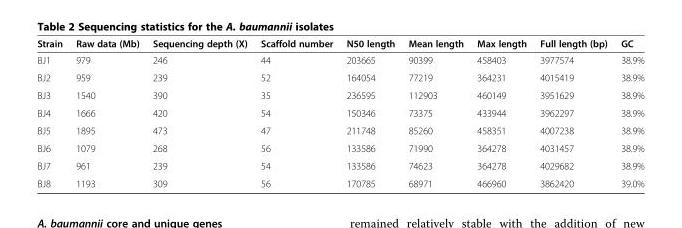table: (36, 37, 643, 188)
table column: (145, 37, 253, 188), (253, 37, 339, 188), (532, 37, 613, 188), (68, 37, 145, 188), (400, 37, 469, 188), (469, 37, 532, 188), (339, 37, 400, 188), (36, 37, 68, 188), (613, 37, 643, 188)
table column header: (36, 37, 643, 51)
table row: (36, 68, 643, 86), (36, 103, 643, 121), (36, 121, 643, 139), (36, 156, 643, 174), (36, 51, 643, 68), (36, 86, 643, 103), (36, 139, 643, 156), (36, 37, 643, 51), (36, 174, 643, 188)
